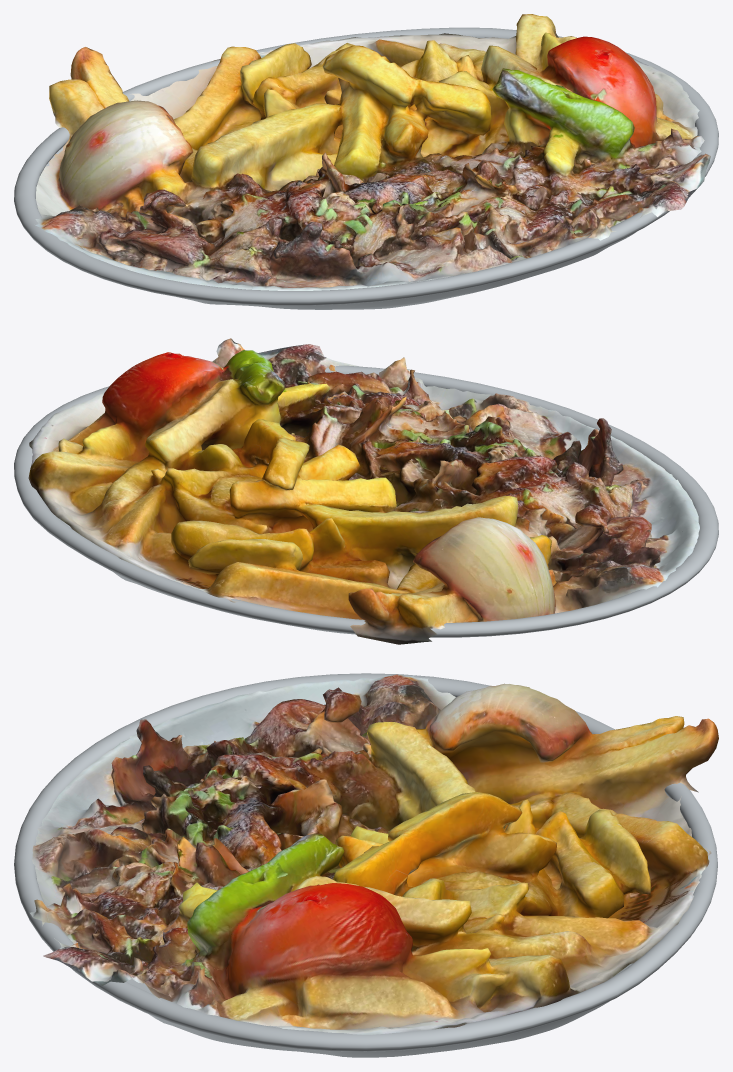
Rendered from lamb-doner.glb.
The picture shows the model from 3 angles, top to bottom: view 1: azimuth 30°, elevation 25°; view 2: azimuth 150°, elevation 25°; view 3: azimuth 270°, elevation 25°; orthographic projection. The views are drawn at different scales.
Visible parts, largest first — view 1: baked_mesh, Circle.001, plate; view 2: baked_mesh, Circle.001; view 3: baked_mesh, Circle.001, plate.
Part boxes in pixels (bbox=[...]): baked_mesh: bbox=[35, 14, 710, 290]; Circle.001: bbox=[14, 27, 718, 305]; plate: bbox=[45, 147, 635, 309]; baked_mesh: bbox=[28, 338, 699, 644]; Circle.001: bbox=[14, 365, 718, 637]; baked_mesh: bbox=[30, 674, 718, 1034]; Circle.001: bbox=[14, 673, 717, 1051]; plate: bbox=[126, 928, 696, 1057].
Size of the model in its own units: 1.01 by 0.2155 by 0.7915.
Materials: 2 (1 with a texture image).
